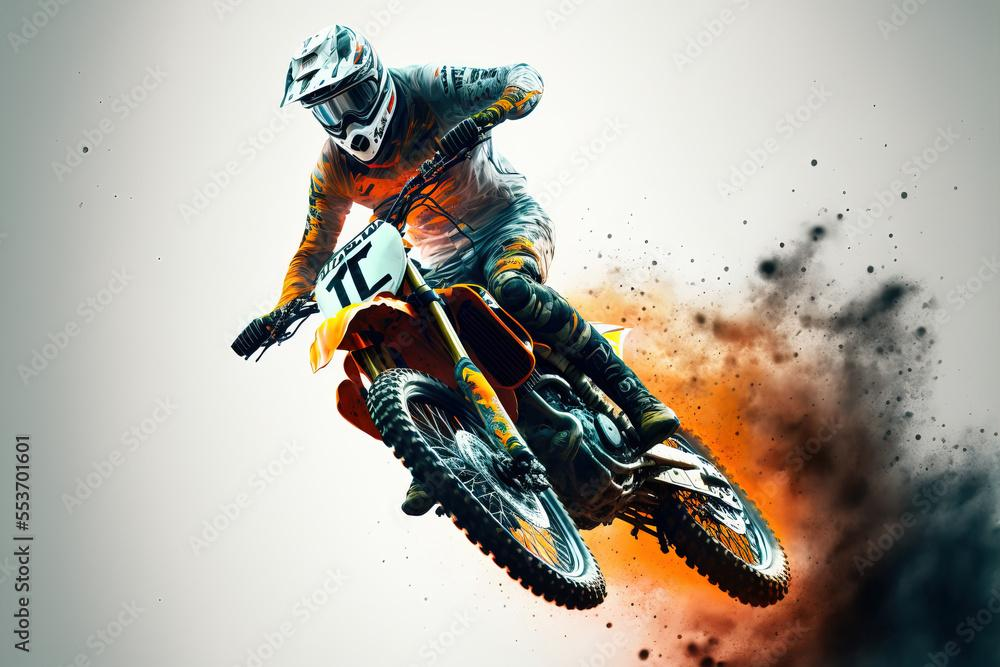helmet: (278, 23, 400, 166)
